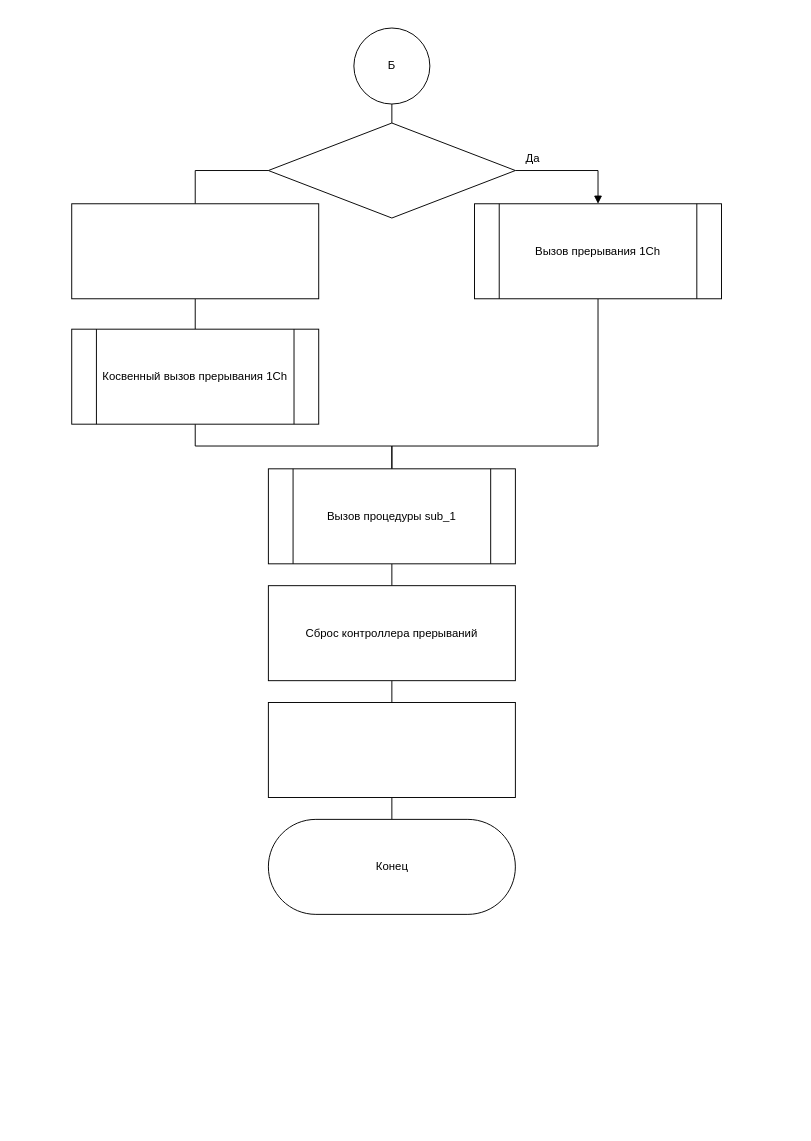
The diagram is 811 pixels wide and 1141 high, and some of its shapes have lost their labels. The centre of each missing label's shape, as x and y in pixels:
"Восстановление регистров DS, ES, AX, DX" goes at point 391,750.
"Загрузка регистра флагов в стек" goes at point 195,251.
"Установлен ли 2-ой бит (PF) по адресу 0040:0314h?" goes at point 391,170.
